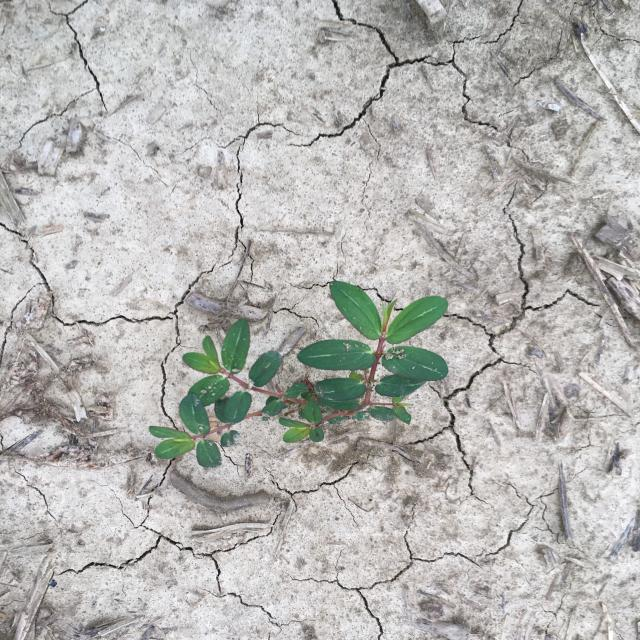SpottedSpurge: (148, 281, 449, 468)
